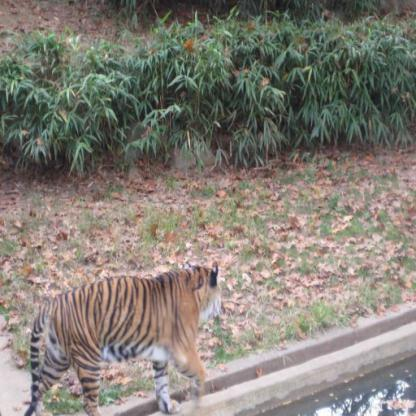Tiger: (23, 254, 224, 416)
